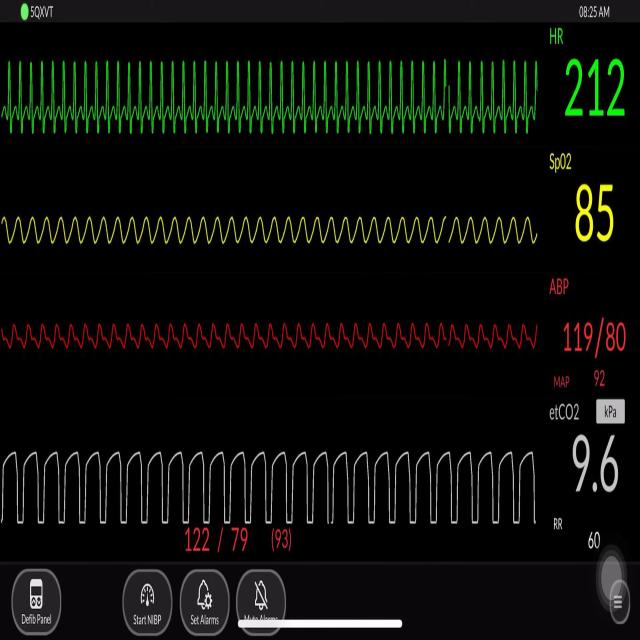danger: (7, 51, 539, 144)
